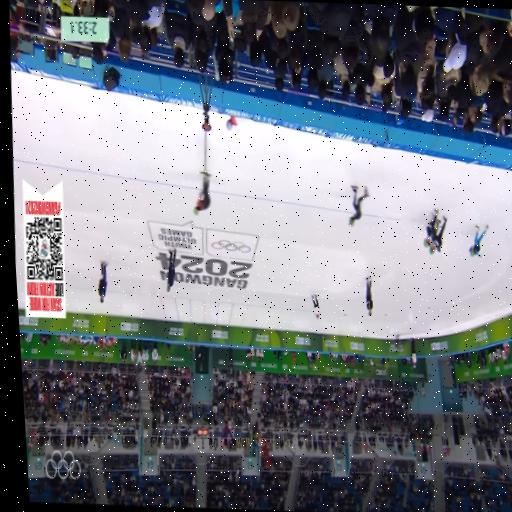Skater: (348, 185, 369, 225), (192, 172, 209, 214), (429, 217, 446, 253), (469, 224, 488, 256), (423, 208, 438, 246)
